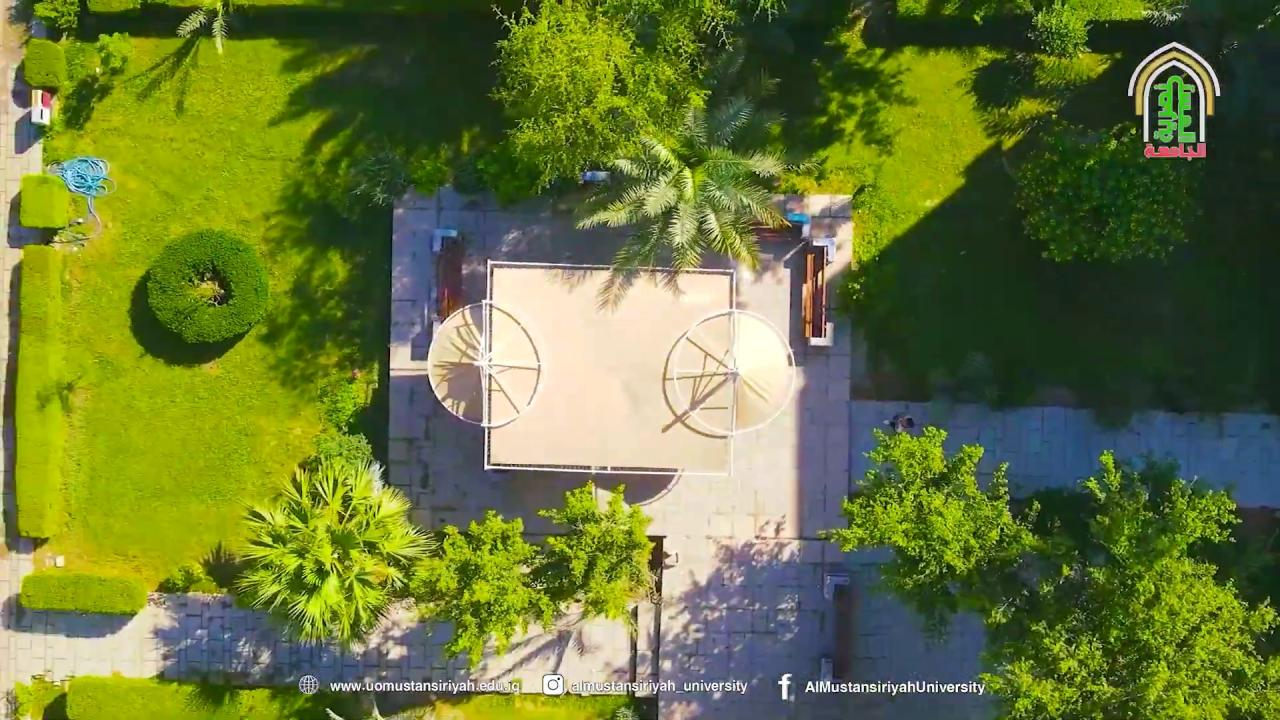tree: (484, 0, 1190, 311), (817, 421, 1279, 718), (485, 0, 820, 310), (816, 421, 1053, 644), (841, 0, 1189, 151), (571, 94, 800, 312), (486, 0, 705, 197), (229, 452, 437, 647), (1003, 114, 1202, 265), (410, 508, 557, 673), (535, 478, 661, 633), (144, 226, 270, 345)
